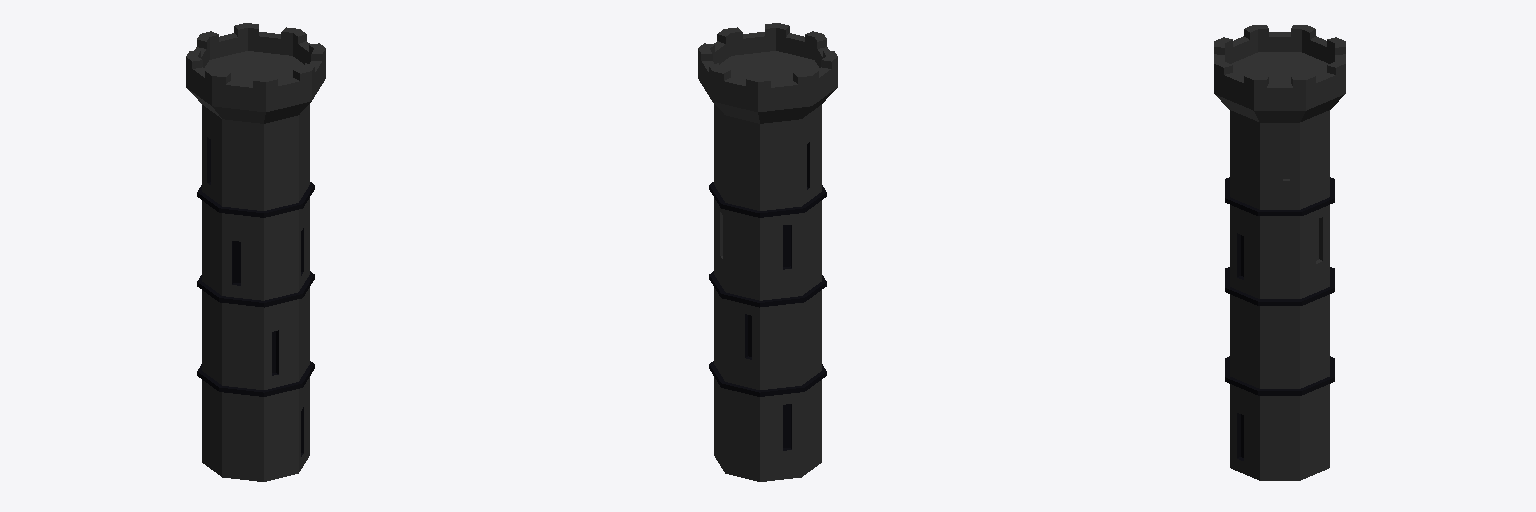
File: turret.obj
3 views of the same model, side by side, from view 1: azimuth 30°, elevation 25°; view 2: azimuth 150°, elevation 25°; view 3: azimuth 270°, elevation 25° (orthographic).
Visible parts, largest first — view 1: SM_Castle:SM_Castle; view 2: SM_Castle:SM_Castle; view 3: SM_Castle:SM_Castle.
Part boxes in pixels (x1,y1,x2,y2): SM_Castle:SM_Castle: (186,23,325,481); SM_Castle:SM_Castle: (698,23,837,481); SM_Castle:SM_Castle: (1214,25,1345,480).
Bounding box in the file's own units: 28 × 95.45 × 28.